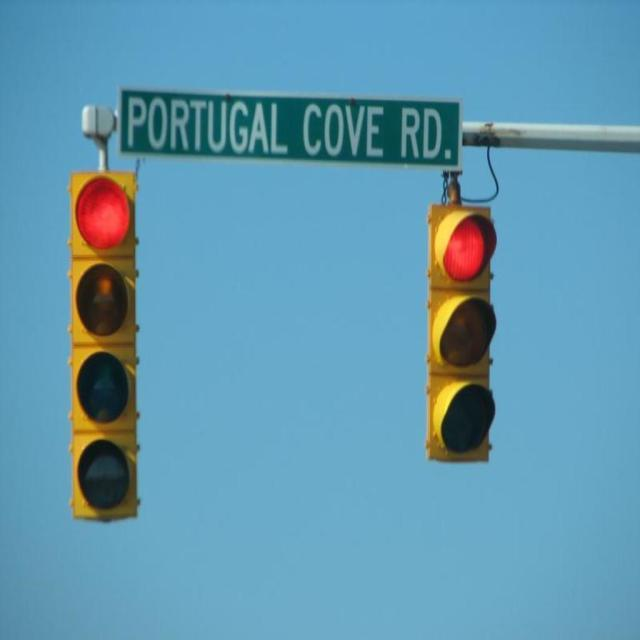traffic light: (72, 172, 139, 526), (426, 206, 497, 459)
